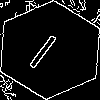I: (25, 25, 66, 70)
